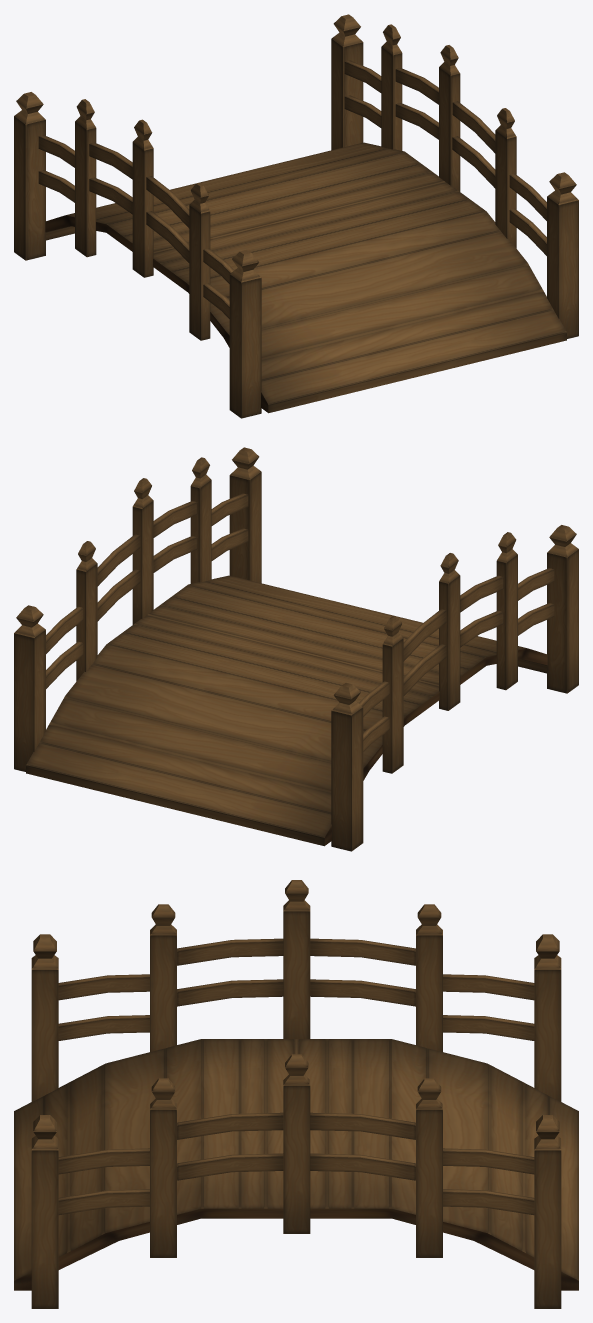
File: Wooden_Bridge.fbx
The picture shows the model from 3 angles, top to bottom: view 1: azimuth 30°, elevation 25°; view 2: azimuth 150°, elevation 25°; view 3: azimuth 270°, elevation 25°; orthographic projection. The views are drawn at different scales.
Parts seen in each view (by area): view 1: Bridge; view 2: Bridge; view 3: Bridge.
Boxes of the visible parts, <box> form: Bridge: <box>14,14,578,418</box>; Bridge: <box>14,447,578,851</box>; Bridge: <box>14,880,578,1308</box>.
Bounding box in the file's own units: 4.17 × 2.48 × 5.19.
